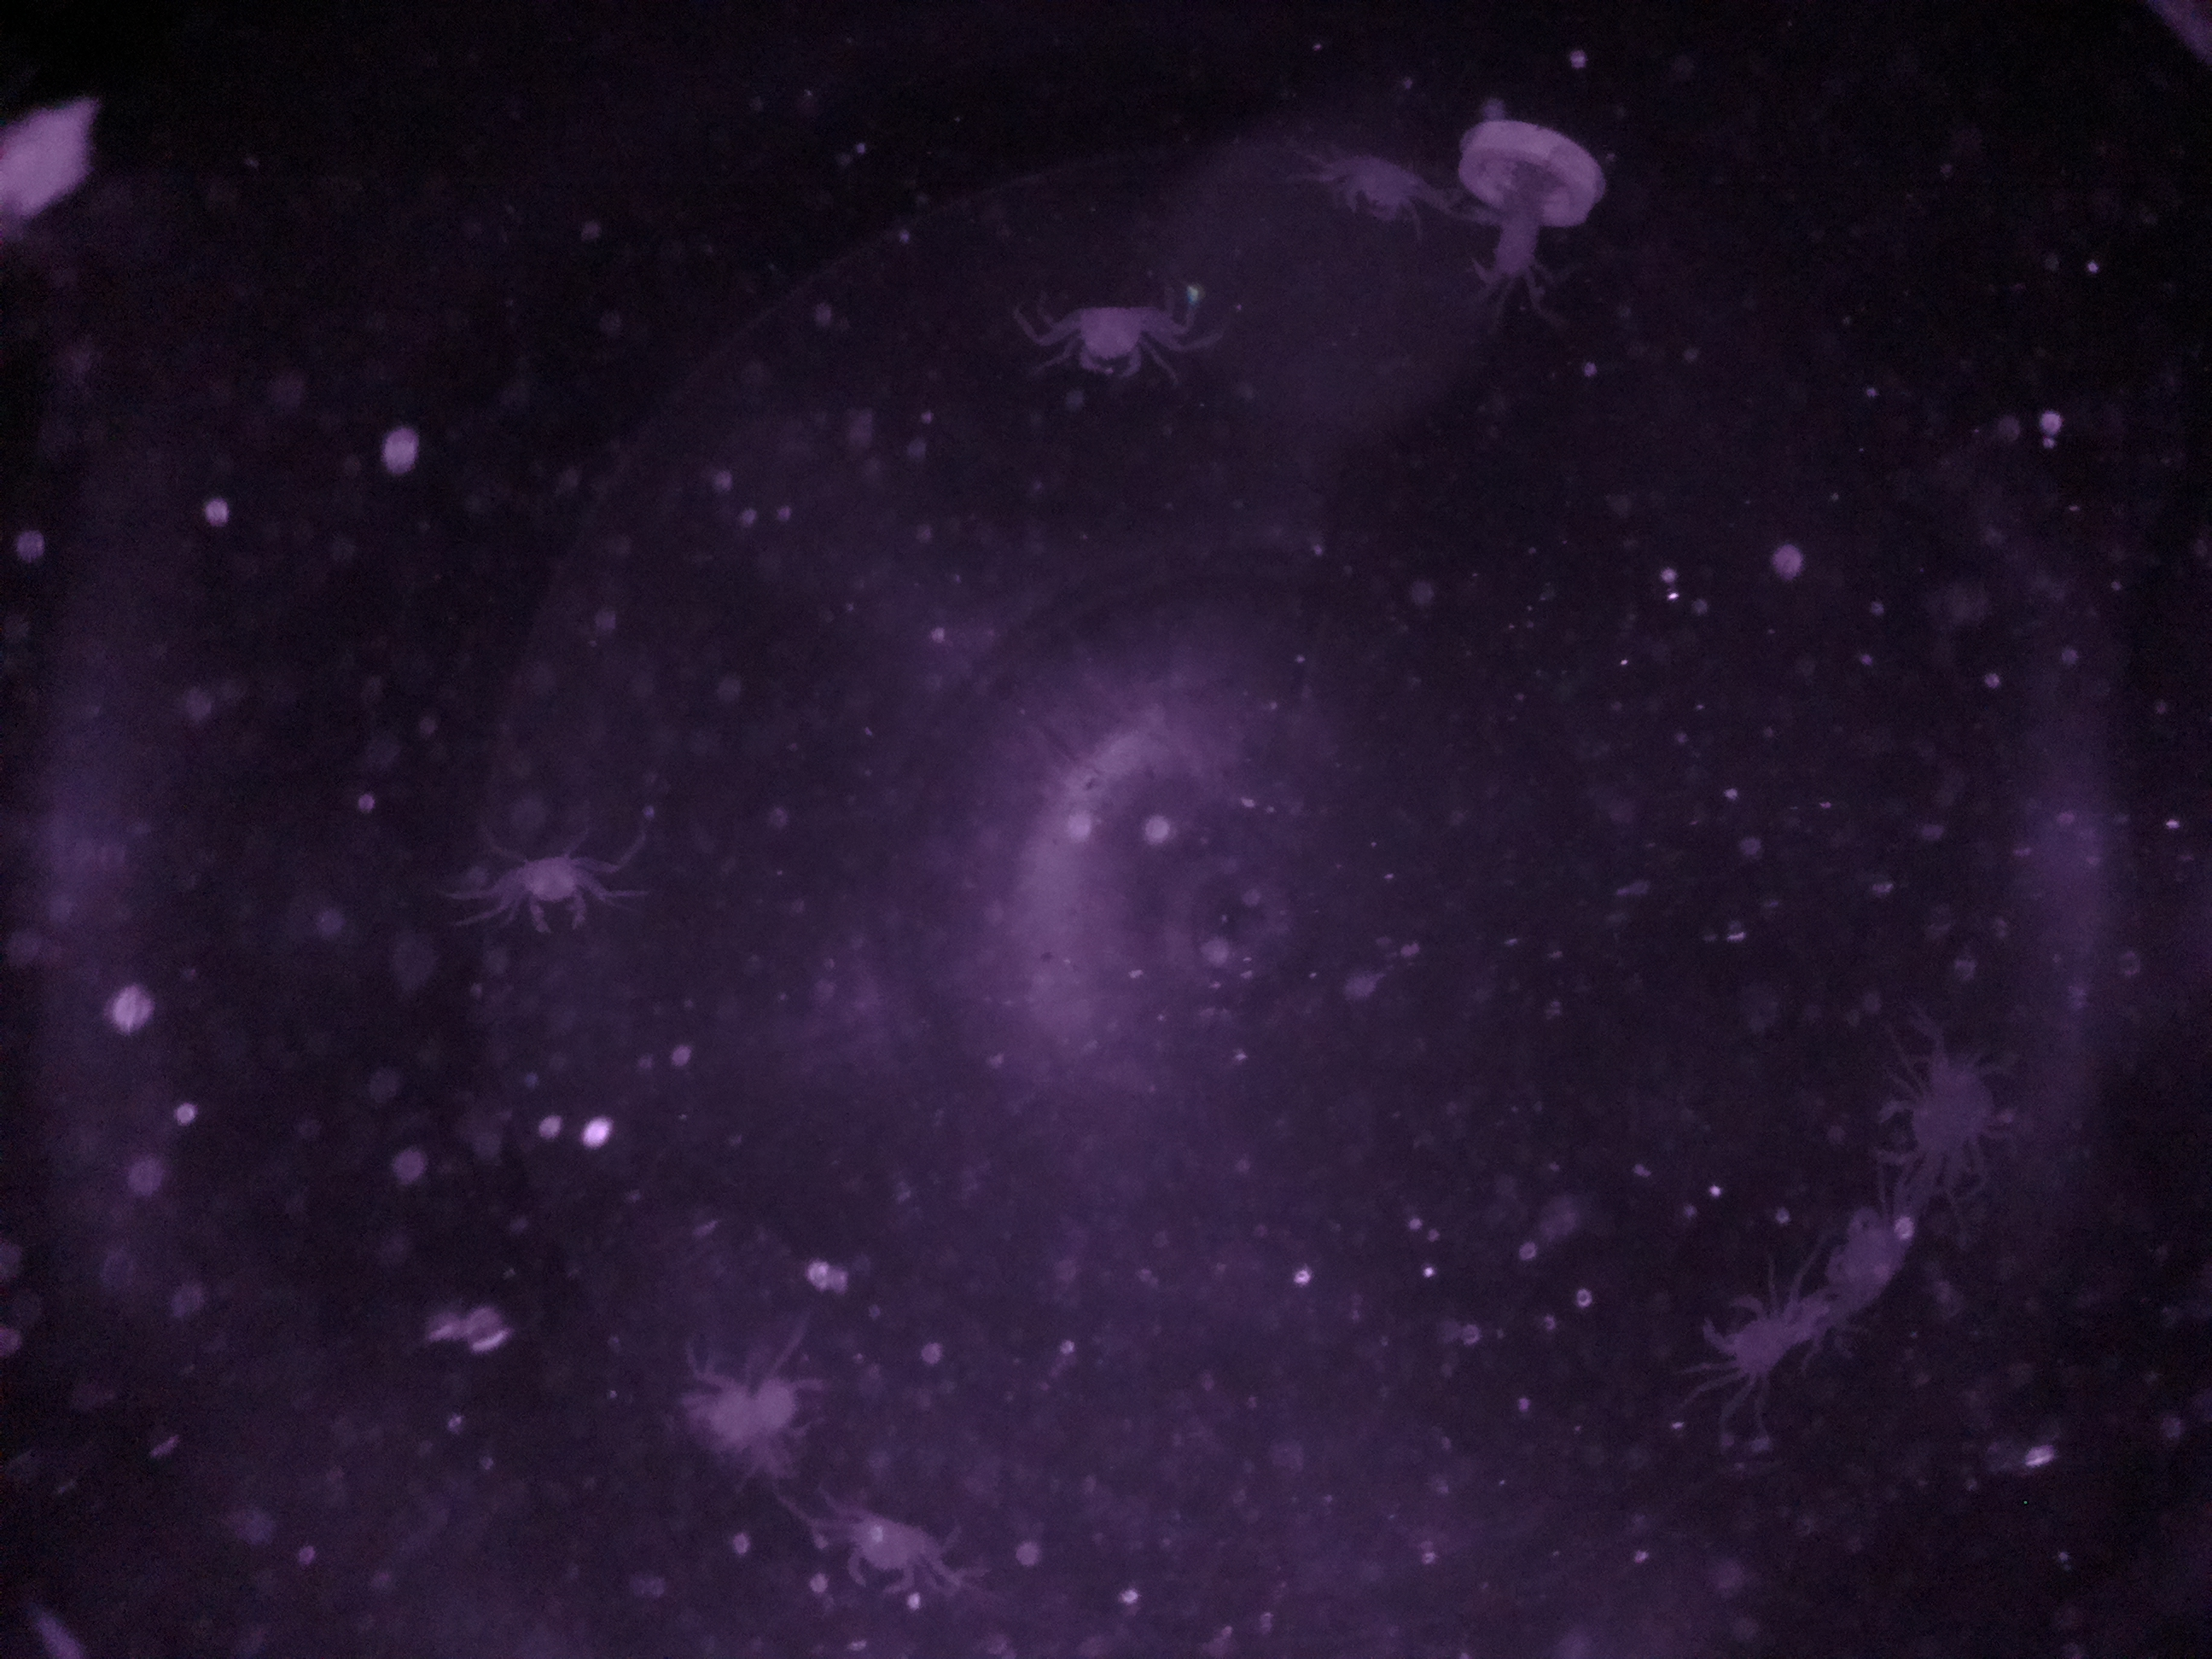Crab: (1803, 1195, 1925, 1319), (1862, 1073, 1993, 1183), (1684, 1283, 1813, 1389), (827, 1495, 934, 1622), (1461, 199, 1575, 301), (1061, 282, 1160, 385), (512, 838, 601, 950), (1339, 141, 1425, 240)
